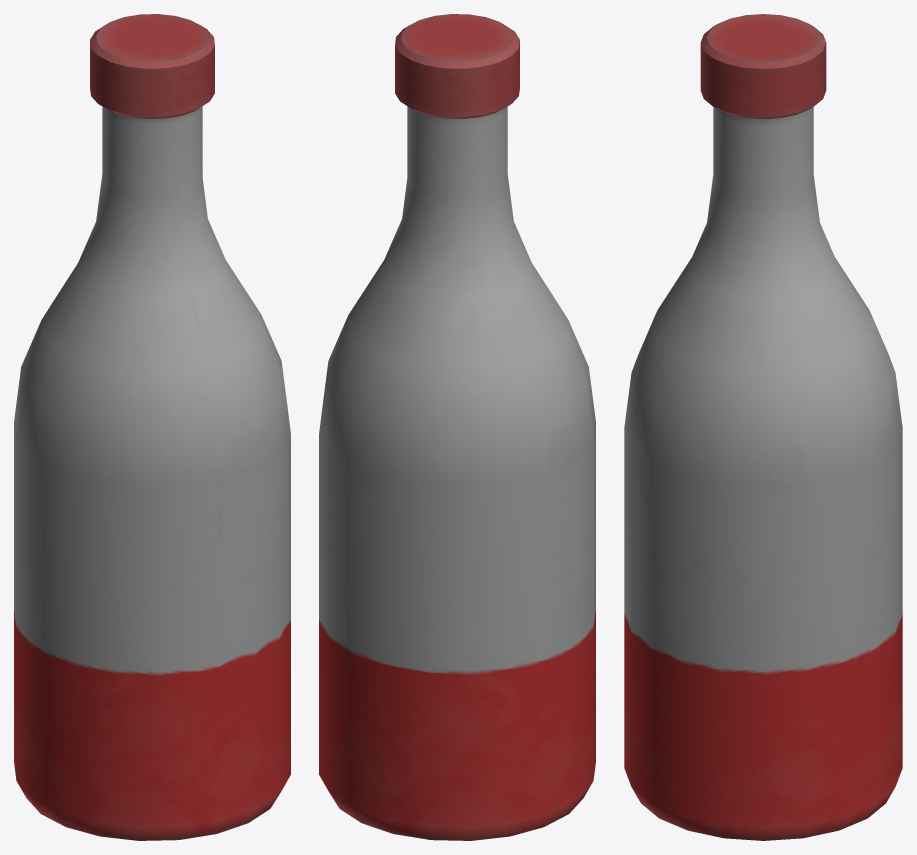
Rendered from SM_Bottle.fbx.
The picture shows the model from 3 angles, left to right: view 1: azimuth 30°, elevation 25°; view 2: azimuth 150°, elevation 25°; view 3: azimuth 270°, elevation 25°; orthographic projection.
Visible parts, largest first — view 1: SM_Bottle_LOD0; view 2: SM_Bottle_LOD0; view 3: SM_Bottle_LOD0.
Part boxes in pixels (x1,y1,x2,y2): SM_Bottle_LOD0: [14, 14, 290, 840]; SM_Bottle_LOD0: [319, 14, 595, 840]; SM_Bottle_LOD0: [624, 14, 902, 840].
Size of the model in its own units: 10.9 by 10.9 by 32.69.
Materials: 1 (1 with a texture image).
